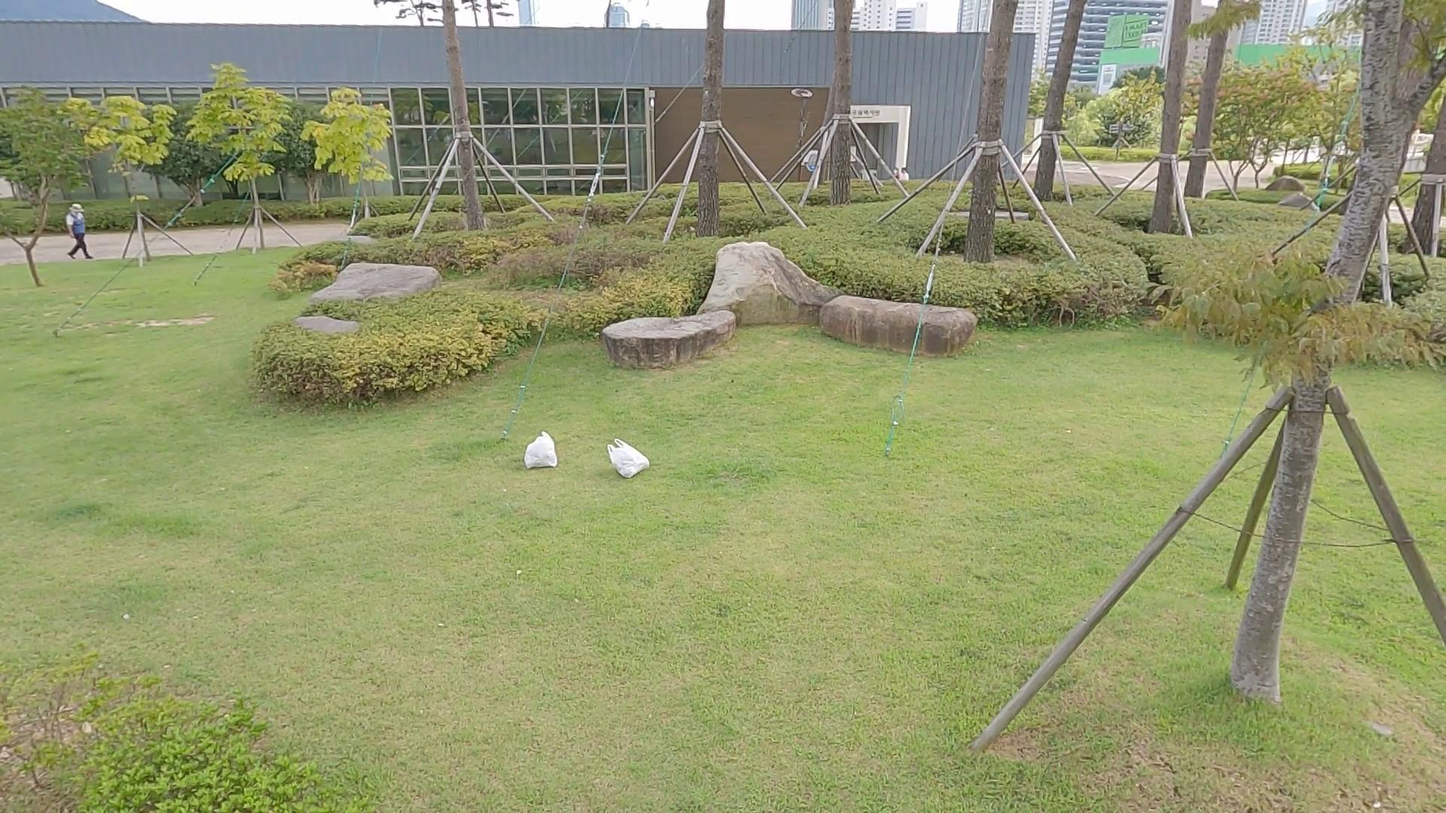trash: (605, 436, 650, 481), (523, 429, 559, 470)
